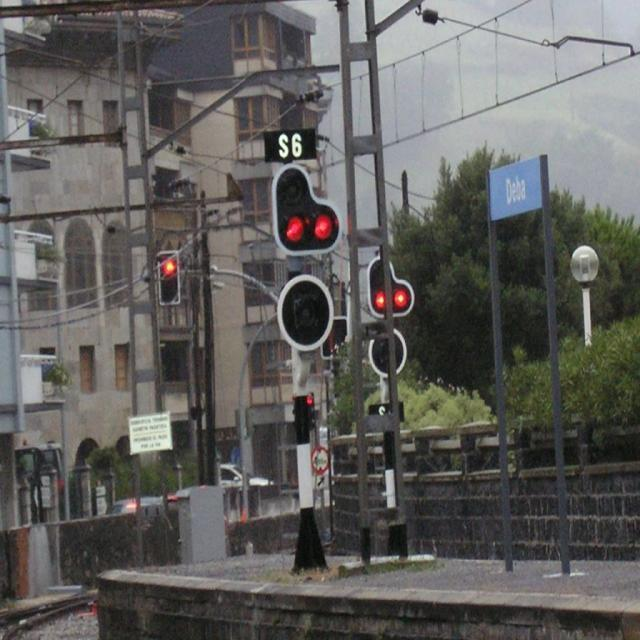traffic light: (157, 251, 181, 305)
